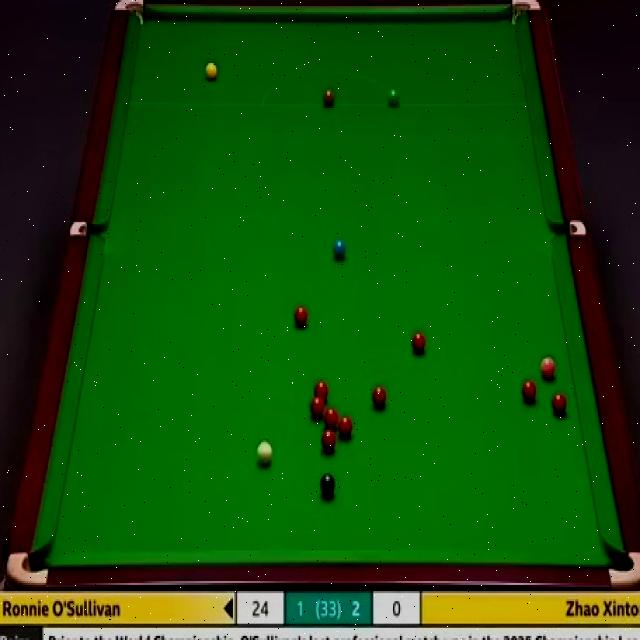black-ball: (318, 475, 337, 498)
blue-ball: (334, 237, 346, 260)
brown-ball: (322, 88, 336, 107)
green-ball: (386, 86, 401, 109)
pink-ball: (539, 356, 556, 378)
red-ball: (372, 384, 389, 411), (551, 392, 569, 415), (292, 306, 310, 328), (521, 378, 536, 404), (338, 414, 353, 439), (310, 397, 324, 421), (324, 410, 340, 431), (412, 331, 426, 354), (314, 381, 328, 403), (321, 430, 335, 452)
white-ball: (255, 441, 273, 466)
yellow-ball: (204, 60, 218, 83)
